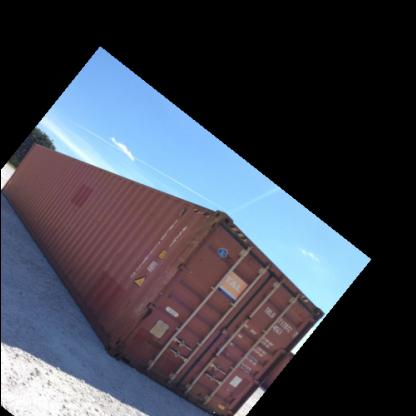Damage: (110, 274, 160, 350), (182, 206, 227, 252), (154, 240, 190, 286)
